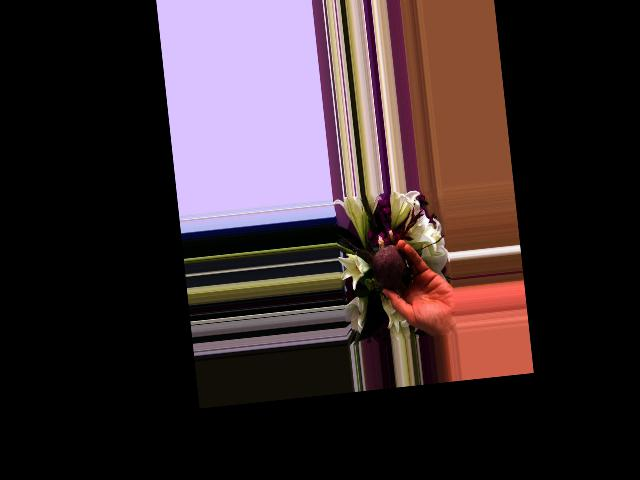beet: (338, 226, 413, 294)
